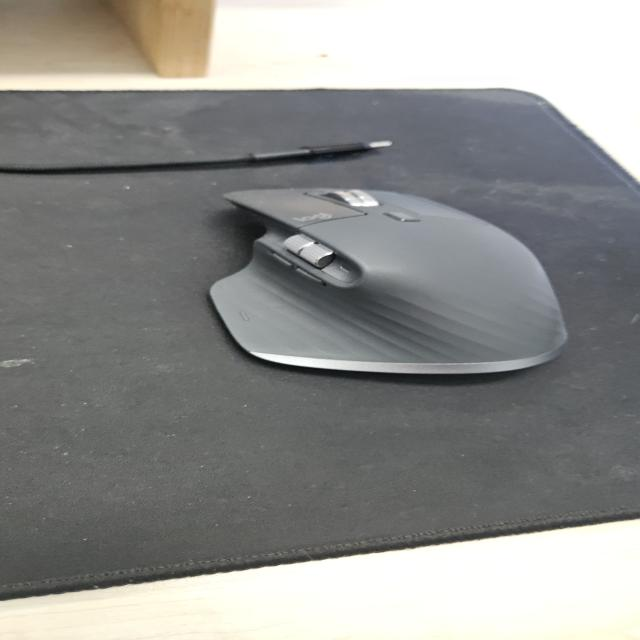Mouse: (205, 185, 571, 376)
